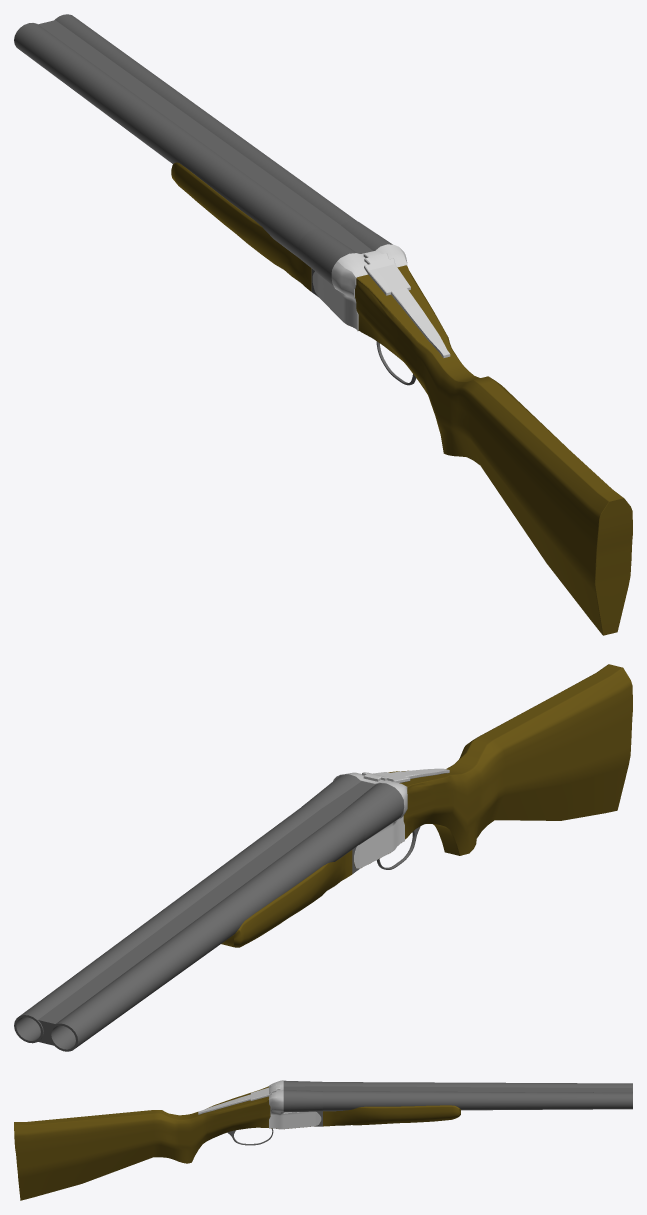
Rendered from Shotgun.fbx.
3 views of the same model, one above another, from view 1: azimuth 30°, elevation 25°; view 2: azimuth 150°, elevation 25°; view 3: azimuth 270°, elevation 25° (orthographic). The views are drawn at different scales.
Visible parts, largest first — view 1: polySurface1, group3, pCube3; view 2: group3, polySurface1, pCube3; view 3: polySurface1, group3, pCube3.
Part boxes in pixels (x1,y1,x2,y2): polySurface1: [312, 244, 632, 635]; group3: [14, 14, 392, 296]; pCube3: [171, 162, 311, 291]; group3: [14, 774, 403, 1051]; polySurface1: [333, 664, 632, 868]; pCube3: [221, 850, 352, 947]; polySurface1: [14, 1080, 321, 1200]; group3: [283, 1080, 632, 1126]; pCube3: [323, 1105, 460, 1126].
Bounding box in the file's own units: 1.05 × 2.82 × 14.04.
